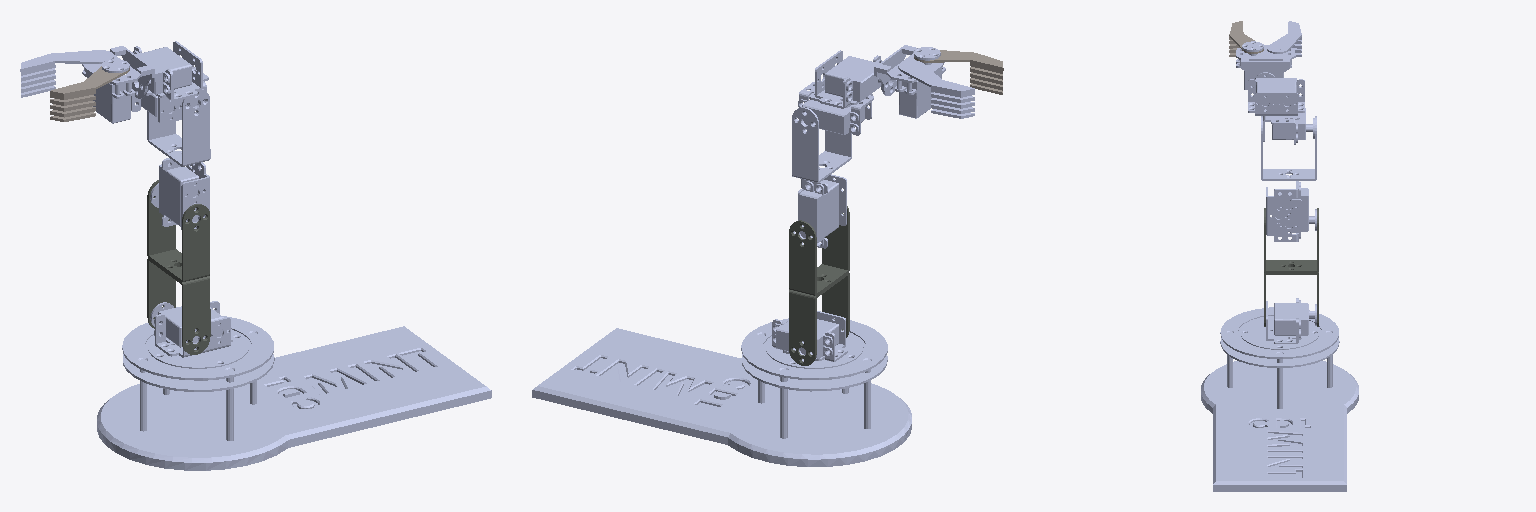
URDF robot description (CDL_Robot):
<?xml version="1.0" encoding="utf-8"?>
<!-- This URDF was automatically created by SolidWorks to URDF Exporter! Originally created by [author] ([email redacted]) 
     Commit Version: 1.6.0-4-g7f85cfe  Build Version: 1.6.7995.38578
     For more information, please see http://wiki.ros.org/sw_urdf_exporter -->
<robot
  name="CDL_Robot">
  <link
    name="Base">
    <inertial>
      <origin
        xyz="0.0698718119340906 -5.62784538541139E-05 0.00867476825692626"
        rpy="0 0 0" />
      <mass
        value="0.435083130115151" />
      <inertia
        ixx="0.000783939273998367"
        ixy="2.50321988143194E-06"
        ixz="0.000116393419131874"
        iyy="0.00324996137118823"
        iyz="3.07248108849271E-09"
        izz="0.00384917282235335" />
    </inertial>
    <visual>
      <origin
        xyz="0 0 0"
        rpy="0 0 0" />
      <geometry>
        <mesh
          filename="package://CDL_Robot/meshes/Base.STL" />
      </geometry>
      <material
        name="">
        <color
          rgba="0.792156862745098 0.819607843137255 0.933333333333333 1" />
      </material>
    </visual>
    <collision>
      <origin
        xyz="0 0 0"
        rpy="0 0 0" />
      <geometry>
        <mesh
          filename="package://CDL_Robot/meshes/Base.STL" />
      </geometry>
    </collision>
  </link>
  <link
    name="Link_1">
    <inertial>
      <origin
        xyz="0.0036376422273873 0.0141722918875967 -0.000114876148289825"
        rpy="0 0 0" />
      <mass
        value="0.0899846158063378" />
      <inertia
        ixx="2.59369054137883E-05"
        ixy="1.31163485201208E-07"
        ixz="7.57333889178447E-08"
        iyy="4.78001548297527E-05"
        iyz="2.48760744427791E-15"
        izz="2.46536172789297E-05" />
    </inertial>
    <visual>
      <origin
        xyz="0 0 0"
        rpy="0 0 0" />
      <geometry>
        <mesh
          filename="package://CDL_Robot/meshes/Link_1.STL" />
      </geometry>
      <material
        name="">
        <color
          rgba="0.792156862745098 0.819607843137255 0.933333333333333 1" />
      </material>
    </visual>
    <collision>
      <origin
        xyz="0 0 0"
        rpy="0 0 0" />
      <geometry>
        <mesh
          filename="package://CDL_Robot/meshes/Link_1.STL" />
      </geometry>
    </collision>
  </link>
  <joint
    name="Joint_1"
    type="revolute">
    <origin
      xyz="0 0 0.057"
      rpy="1.5708 0 1.57" />
    <parent
      link="Base" />
    <child
      link="Link_1" />
    <axis
      xyz="0 1 0" />
    <limit
      lower="-1.04"
      upper="1.45"
      effort="30"
      velocity="130" />
  </joint>
  <link
    name="Link_2">
    <inertial>
      <origin
        xyz="0.0115000000000015 -0.0525000000000001 -6.35602681597902E-15"
        rpy="0 0 0" />
      <mass
        value="0.0164969468010178" />
      <inertia
        ixx="7.42405250829535E-06"
        ixy="-1.66301491564036E-20"
        ixz="2.25253523071255E-18"
        iyy="1.05334862992884E-05"
        iyz="-7.09675676513726E-21"
        izz="1.62139226119761E-05" />
    </inertial>
    <visual>
      <origin
        xyz="0 0 0"
        rpy="0 0 0" />
      <geometry>
        <mesh
          filename="package://CDL_Robot/meshes/Link_2.STL" />
      </geometry>
      <material
        name="">
        <color
          rgba="0.427450980392157 0.447058823529412 0.427450980392157 1" />
      </material>
    </visual>
    <collision>
      <origin
        xyz="0 0 0"
        rpy="0 0 0" />
      <geometry>
        <mesh
          filename="package://CDL_Robot/meshes/Link_2.STL" />
      </geometry>
    </collision>
  </link>
  <joint
    name="Joint_2"
    type="revolute">
    <origin
      xyz="0 0.0283 -0.011"
      rpy="3.1407 0 0" />
    <parent
      link="Link_1" />
    <child
      link="Link_2" />
    <axis
      xyz="1 0 0" />
    <limit
      lower="-1.56"
      upper="1.56"
      effort="30"
      velocity="130" />
  </joint>
  <link
    name="Link3">
    <inertial>
      <origin
        xyz="-0.0228336670142768 -0.000809776397526232 0.0099999347894551"
        rpy="0 0 0" />
      <mass
        value="0.0406237040474477" />
      <inertia
        ixx="1.00264626930775E-05"
        ixy="9.60078336408906E-14"
        ixz="-7.57333421626085E-08"
        iyy="1.70976105050017E-05"
        iyz="1.31162467072324E-07"
        izz="1.00911909979495E-05" />
    </inertial>
    <visual>
      <origin
        xyz="0 0 0"
        rpy="0 0 0" />
      <geometry>
        <mesh
          filename="package://CDL_Robot/meshes/Link3.STL" />
      </geometry>
      <material
        name="">
        <color
          rgba="0.792156862745098 0.819607843137255 0.933333333333333 1" />
      </material>
    </visual>
    <collision>
      <origin
        xyz="0 0 0"
        rpy="0 0 0" />
      <geometry>
        <mesh
          filename="package://CDL_Robot/meshes/Link3.STL" />
      </geometry>
    </collision>
  </link>
  <joint
    name="Joint_3"
    type="revolute">
    <origin
      xyz="0 -0.105 0"
      rpy="1.5708 1.088E-05 1.5708" />
    <parent
      link="Link_2" />
    <child
      link="Link3" />
    <axis
      xyz="0 0 1" />
    <limit
      lower="-1.56"
      upper="1.56"
      effort="30"
      velocity="130" />
  </joint>
  <link
    name="Link_4">
    <inertial>
      <origin
        xyz="-0.016567214692327 -0.0142999999992768 0.00201721469275148"
        rpy="0 0 0" />
      <mass
        value="0.0647504612912834" />
      <inertia
        ixx="1.11388842865089E-05"
        ixy="1.31162464723774E-07"
        ixz="-1.51466777824251E-07"
        iyy="1.79812983971034E-05"
        iyz="1.31162464622315E-07"
        izz="1.11388842873083E-05" />
    </inertial>
    <visual>
      <origin
        xyz="0 0 0"
        rpy="0 0 0" />
      <geometry>
        <mesh
          filename="package://CDL_Robot/meshes/Link_4.STL" />
      </geometry>
      <material
        name="">
        <color
          rgba="0.792156862745098 0.819607843137255 0.933333333333333 1" />
      </material>
    </visual>
    <collision>
      <origin
        xyz="0 0 0"
        rpy="0 0 0" />
      <geometry>
        <mesh
          filename="package://CDL_Robot/meshes/Link_4.STL" />
      </geometry>
    </collision>
  </link>
  <joint
    name="Joint_4"
    type="revolute">
    <origin
      xyz="-0.10145 0.0012 0"
      rpy="0 0 -1.5781" />
    <parent
      link="Link3" />
    <child
      link="Link_4" />
    <axis
      xyz="0 0 1" />
    <limit
      lower="-1.56"
      upper="1.56"
      effort="30"
      velocity="130" />
  </joint>
  <link
    name="Link_5">
    <inertial>
      <origin
        xyz="0.0012915000630617 0.00353405467613166 0.0250109127087532"
        rpy="0 0 0" />
      <mass
        value="0.0374198163594604" />
      <inertia
        ixx="4.63651905868586E-06"
        ixy="-1.19895875683736E-07"
        ixz="2.9945482008485E-08"
        iyy="7.35118150024239E-06"
        iyz="-2.3473650396101E-08"
        izz="9.79920289858528E-06" />
    </inertial>
    <visual>
      <origin
        xyz="0 0 0"
        rpy="0 0 0" />
      <geometry>
        <mesh
          filename="package://CDL_Robot/meshes/Link_5.STL" />
      </geometry>
      <material
        name="">
        <color
          rgba="0.792156862745098 0.819607843137255 0.933333333333333 1" />
      </material>
    </visual>
    <collision>
      <origin
        xyz="0 0 0"
        rpy="0 0 0" />
      <geometry>
        <mesh
          filename="package://CDL_Robot/meshes/Link_5.STL" />
      </geometry>
    </collision>
  </link>
  <joint
    name="Joint_5"
    type="revolute">
    <origin
      xyz="-0.049378 -0.0286 -0.01455"
      rpy="1.5708 1.5698 -1.5708" />
    <parent
      link="Link_4" />
    <child
      link="Link_5" />
    <axis
      xyz="0 0 1" />
    <limit
      lower="-1.56"
      upper="1.56"
      effort="30"
      velocity="130" />
  </joint>
  <link
    name="Gripper_link">
    <inertial>
      <origin
        xyz="0.000945587861758912 -0.0425734560227513 0.0155971899059145"
        rpy="0 0 0" />
      <mass
        value="0.00780650699275202" />
      <inertia
        ixx="1.85095983036743E-06"
        ixy="-1.63751792467894E-07"
        ixz="-2.68330751358054E-09"
        iyy="2.16092899820039E-07"
        iyz="-6.09928910515487E-08"
        izz="2.04211060513417E-06" />
    </inertial>
    <visual>
      <origin
        xyz="0 0 0"
        rpy="0 0 0" />
      <geometry>
        <mesh
          filename="package://CDL_Robot/meshes/Gripper_link.STL" />
      </geometry>
      <material
        name="">
        <color
          rgba="0.686274509803922 0.658823529411765 0.63921568627451 1" />
      </material>
    </visual>
    <collision>
      <origin
        xyz="0 0 0"
        rpy="0 0 0" />
      <geometry>
        <mesh
          filename="package://CDL_Robot/meshes/Gripper_link.STL" />
      </geometry>
    </collision>
  </link>
  <joint
    name="Gripper_Joint"
    type="revolute">
    <origin
      xyz="0.0125 0 0.028421"
      rpy="-1.5708 0.31752 0" />
    <parent
      link="Link_5" />
    <child
      link="Gripper_link" />
    <axis
      xyz="0 0 1" />
    <limit
      lower="-0.7"
      upper="0.7"
      effort="30"
      velocity="80" />
    <mimic
      joint="gripper"
      multiplier="1"
      offset="0" />
  </joint>
  <link
    name="gripper_sec">
    <inertial>
      <origin
        xyz="0.000945587861758745 -0.0425734560227511 -0.0155971899059147"
        rpy="0 0 0" />
      <mass
        value="0.00780650699275201" />
      <inertia
        ixx="1.85095983036743E-06"
        ixy="-1.63751792467892E-07"
        ixz="2.68330751358065E-09"
        iyy="2.16092899820037E-07"
        iyz="6.09928910515441E-08"
        izz="2.04211060513417E-06" />
    </inertial>
    <visual>
      <origin
        xyz="0 0 0"
        rpy="0 0 0" />
      <geometry>
        <mesh
          filename="package://CDL_Robot/meshes/gripper_sec.STL" />
      </geometry>
      <material
        name="">
        <color
          rgba="0.792156862745098 0.819607843137255 0.933333333333333 1" />
      </material>
    </visual>
    <collision>
      <origin
        xyz="0 0 0"
        rpy="0 0 0" />
      <geometry>
        <mesh
          filename="package://CDL_Robot/meshes/gripper_sec.STL" />
      </geometry>
    </collision>
  </link>
  <joint
    name="gripper"
    type="revolute">
    <origin
      xyz="-0.0125 0 0.028421"
      rpy="-1.5708 0.31752 -3.1416" />
    <parent
      link="Link_5" />
    <child
      link="gripper_sec" />
    <axis
      xyz="0 0 1" />
    <limit
      lower="-0.7"
      upper="0.7"
      effort="30"
      velocity="80" />
  </joint>
</robot>

--- Facts derived from the render (not from the file) ---
3 views of the same robot in one strip: view 1: azimuth 30°, elevation 25°; view 2: azimuth 150°, elevation 25°; view 3: azimuth 270°, elevation 25° (orthographic).
Model CDL_Robot with 8 links and 7 joints (7 revolute), rooted at Base, posed every joint at zero.
Links seen in each view (by area): view 1: Base, Link_2, Link3, Link_1, Link_4, Link_5, Gripper_link, gripper_sec; view 2: Base, Link_2, Link3, Link_4, Link_1, Link_5, gripper_sec, Gripper_link; view 3: Base, Link_4, Link3, Link_1, Link_5, Link_2, gripper_sec.
Boxes of the visible links, box(x1,y1,x2,y2) form: Base: box(97, 316, 491, 470); Link_2: box(147, 180, 210, 354); Link3: box(147, 89, 210, 229); Link_1: box(148, 301, 248, 368); Link_4: box(131, 41, 208, 124); Link_5: box(82, 46, 154, 123); Gripper_link: box(50, 66, 129, 121); gripper_sec: box(20, 50, 113, 97); Base: box(532, 318, 911, 466); Link_2: box(789, 206, 849, 365); Link3: box(792, 107, 851, 248); Link_4: box(796, 50, 891, 135); Link_1: box(766, 311, 863, 368); Link_5: box(874, 45, 945, 118); gripper_sec: box(898, 60, 974, 118); Gripper_link: box(914, 50, 1003, 94); Base: box(1201, 307, 1358, 491); Link_4: box(1248, 72, 1314, 144); Link3: box(1261, 116, 1316, 241); Link_1: box(1240, 298, 1319, 349); Link_5: box(1236, 41, 1295, 89); Link_2: box(1264, 208, 1318, 326); gripper_sec: box(1267, 21, 1301, 56).
Bounding box of the posed robot: 0.3839 × 0.16 × 0.347 m (x, y, z).
Meshes: 8 distinct files referenced, 8 mesh visuals loaded (8 binary STL).